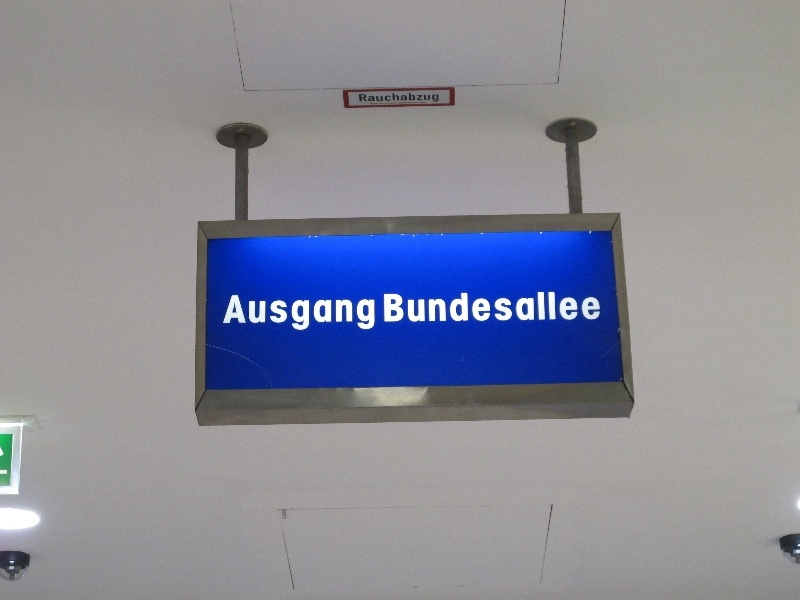text: (241, 295, 256, 334), (257, 295, 272, 334), (273, 295, 288, 334), (289, 295, 304, 334), (305, 295, 320, 334), (321, 295, 336, 334), (337, 295, 352, 334), (353, 295, 368, 334), (385, 290, 400, 325), (401, 290, 416, 325), (417, 290, 432, 325), (433, 290, 448, 325), (449, 290, 464, 325), (465, 290, 480, 325), (481, 290, 496, 325), (497, 290, 512, 325), (513, 290, 528, 325), (529, 290, 544, 325), (545, 290, 560, 325), (561, 290, 576, 325), (577, 290, 592, 325), (229, 295, 240, 334), (593, 290, 602, 325), (369, 295, 376, 334), (369, 92, 384, 104), (385, 92, 400, 104), (401, 92, 416, 104), (417, 92, 432, 104), (359, 92, 368, 104), (433, 92, 439, 104), (382, 290, 384, 325), (385, 102, 400, 105), (401, 102, 416, 105), (370, 102, 384, 105), (417, 102, 426, 105)
